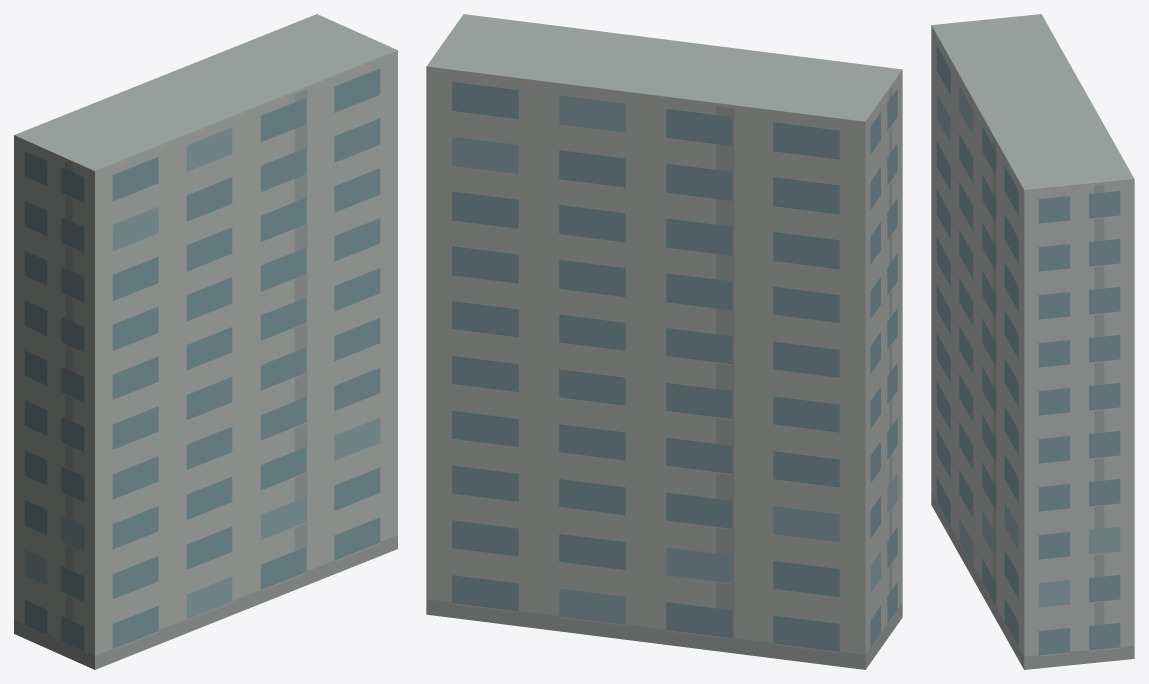
The model's file is residential-d918453c-c0cd-4655-ad6e-0c673e5776d5.glb.
3 renders of one model, left to right at view 1: azimuth 30°, elevation 25°; view 2: azimuth 150°, elevation 25°; view 3: azimuth 270°, elevation 25°, orthographic. The views are drawn at different scales.
Visible parts, largest first — view 1: residential-d918453c-c0cd-4655-ad6e-0c673e5776d5.tmp; view 2: residential-d918453c-c0cd-4655-ad6e-0c673e5776d5.tmp; view 3: residential-d918453c-c0cd-4655-ad6e-0c673e5776d5.tmp.
Part boxes in pixels (<box>): residential-d918453c-c0cd-4655-ad6e-0c673e5776d5.tmp: <box>14,14,397,669</box>; residential-d918453c-c0cd-4655-ad6e-0c673e5776d5.tmp: <box>426,14,902,669</box>; residential-d918453c-c0cd-4655-ad6e-0c673e5776d5.tmp: <box>931,14,1134,669</box>.
Size of the model in its own units: 29.89 by 38 by 14.58.
